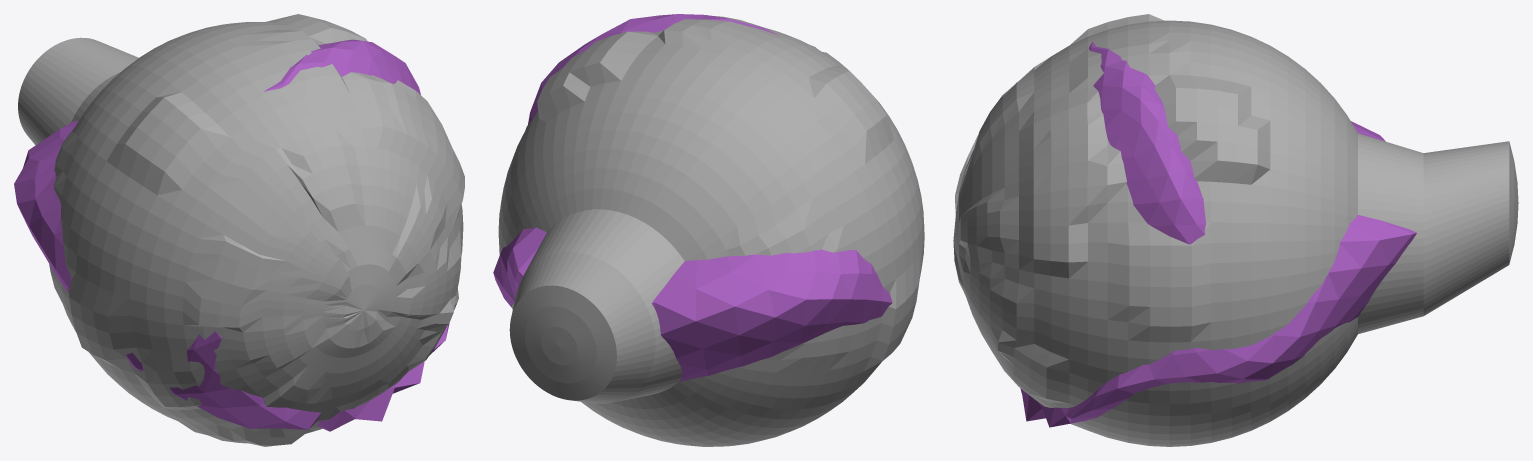
Rendered from G11_A2_ALIGNED_GT.glb.
3 renders of one model, left to right at view 1: azimuth 30°, elevation 25°; view 2: azimuth 150°, elevation 25°; view 3: azimuth 270°, elevation 25°, orthographic. The views are drawn at different scales.
Parts seen in each view (by area): view 1: Independent_GT, A2; view 2: Independent_GT, A2; view 3: Independent_GT, A2.
Boxes of the visible parts, box(x1,y1,x2,y2) form: Independent_GT: box(18, 14, 464, 446); A2: box(14, 39, 449, 431); Independent_GT: box(498, 16, 924, 446); A2: box(493, 14, 892, 381); Independent_GT: box(953, 14, 1518, 446); A2: box(1020, 41, 1416, 427).
Bounding box in the file's own units: 0.00572 × 0.00563 × 0.00741.
